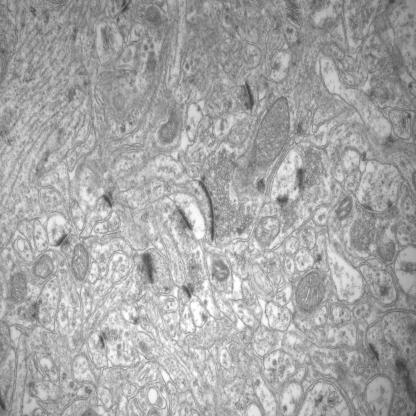mitochondria: (250, 95, 293, 170), (295, 268, 331, 314), (254, 214, 284, 246), (70, 242, 90, 284), (160, 107, 180, 146), (30, 252, 55, 282), (10, 269, 28, 307), (211, 260, 230, 284)
